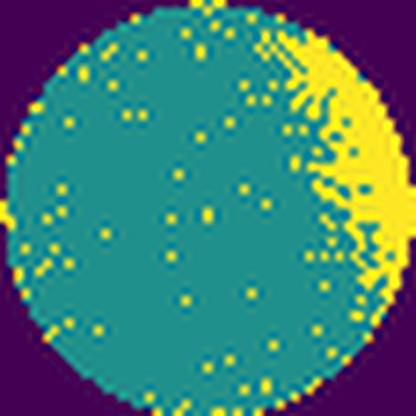Edge-Loc: (252, 16, 416, 319)
